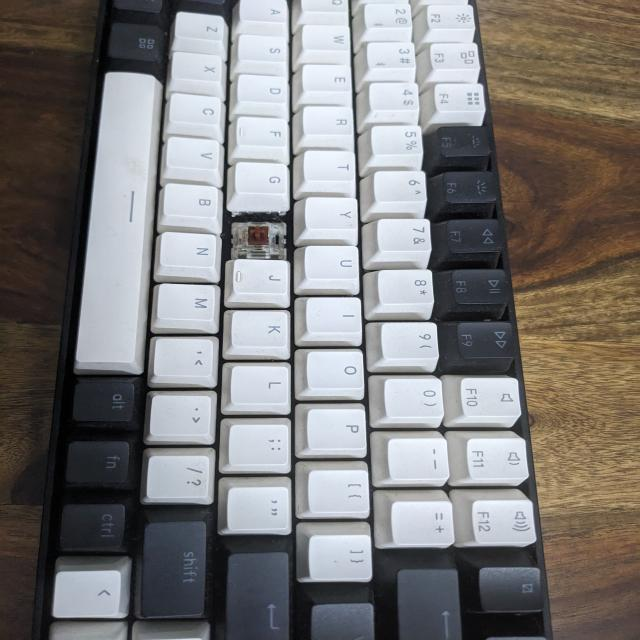C: (233, 214, 286, 253)
